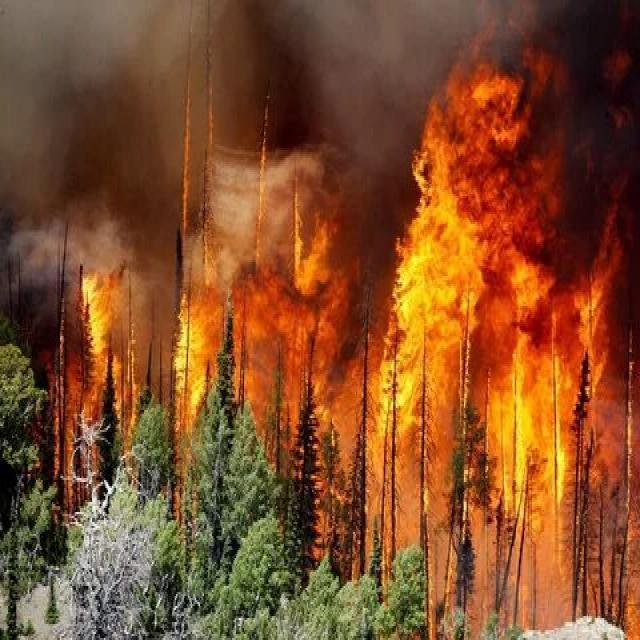Fire: (374, 71, 626, 525), (2, 261, 396, 434)
Smoke: (17, 0, 344, 242)
